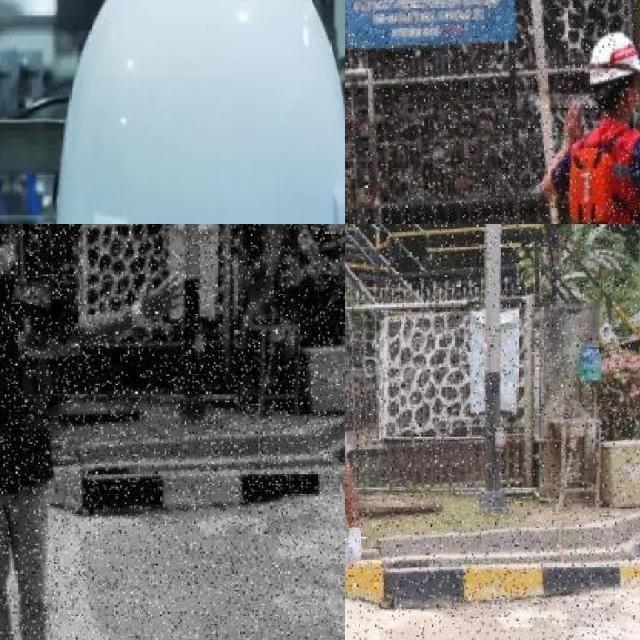apron: (131, 272, 185, 329), (345, 524, 363, 572)
